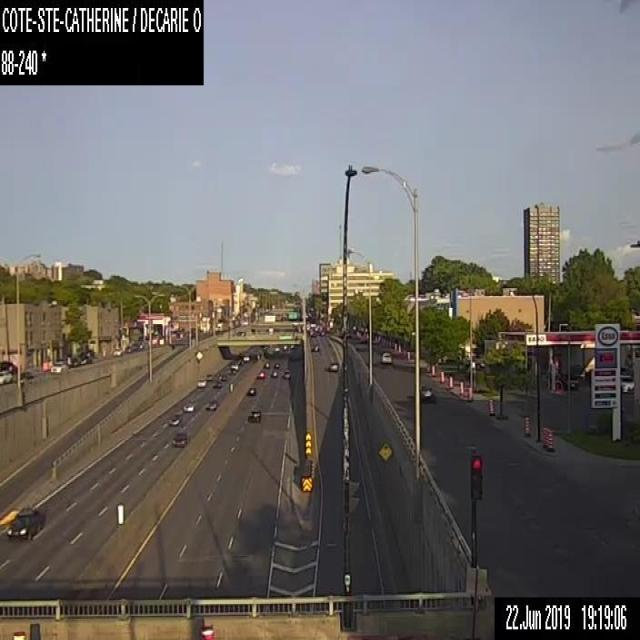construction: (546, 428, 552, 451), (487, 398, 494, 416), (524, 416, 530, 436), (467, 386, 472, 401), (459, 381, 464, 395), (542, 425, 545, 446), (439, 370, 444, 382), (448, 375, 452, 387), (545, 427, 547, 449), (431, 364, 435, 375), (406, 350, 409, 359), (394, 342, 396, 350), (398, 344, 400, 351)
vehicle: (6, 508, 44, 541), (620, 374, 634, 392), (172, 431, 187, 447), (247, 407, 261, 422), (564, 374, 578, 389), (50, 361, 66, 373), (0, 369, 12, 384), (421, 384, 432, 400), (168, 412, 181, 425), (183, 400, 194, 412), (205, 400, 218, 410), (381, 351, 391, 363), (68, 356, 80, 366), (327, 361, 338, 371), (196, 378, 206, 387), (80, 356, 91, 364), (283, 368, 291, 378), (256, 370, 265, 378), (112, 348, 121, 356), (311, 342, 319, 350), (218, 372, 226, 380), (86, 348, 94, 356), (230, 361, 238, 369), (212, 380, 221, 387), (242, 352, 250, 359), (248, 386, 255, 394), (205, 372, 212, 380), (271, 370, 277, 376), (274, 361, 280, 367), (264, 361, 268, 366), (17, 383, 18, 384)
